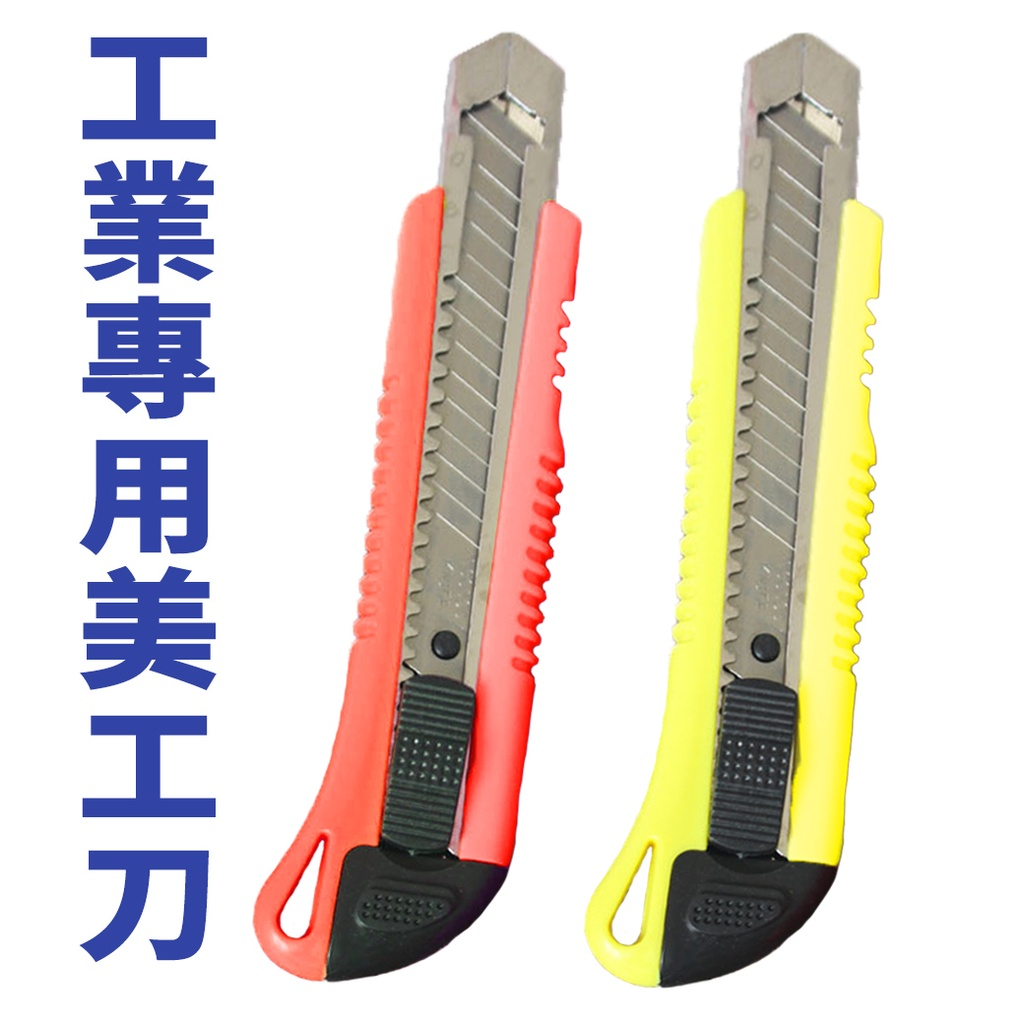cutter: (253, 32, 579, 984), (585, 33, 882, 989)
